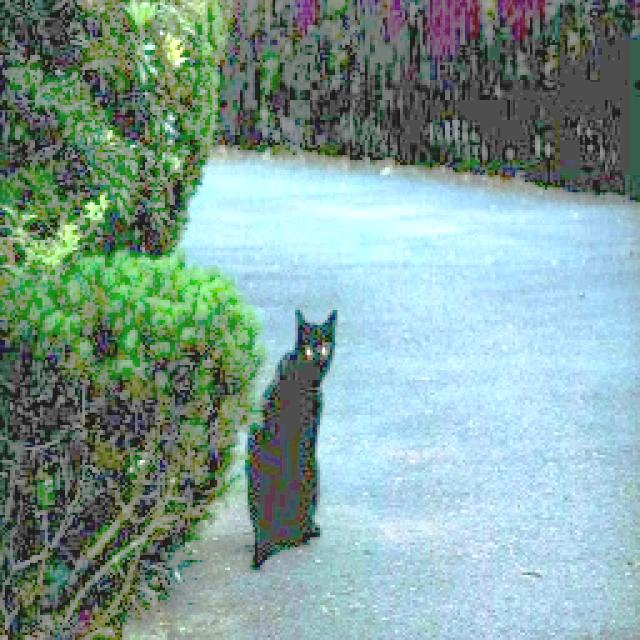cat: (246, 302, 344, 570)
